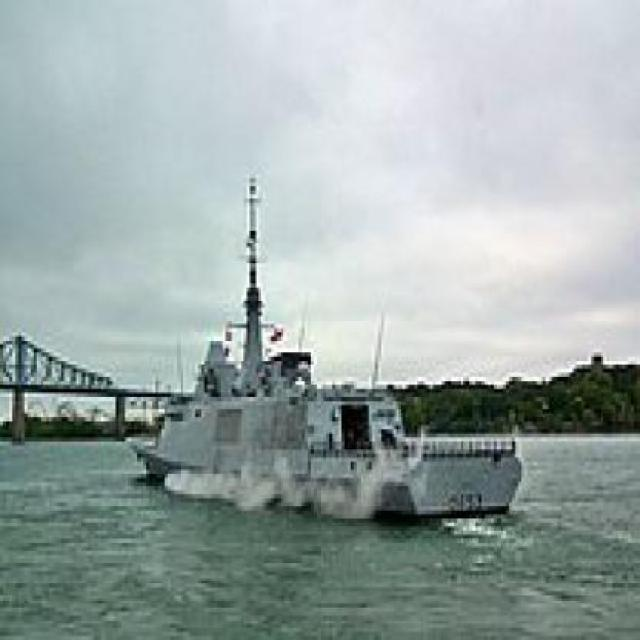warship2: (126, 147, 517, 544)
